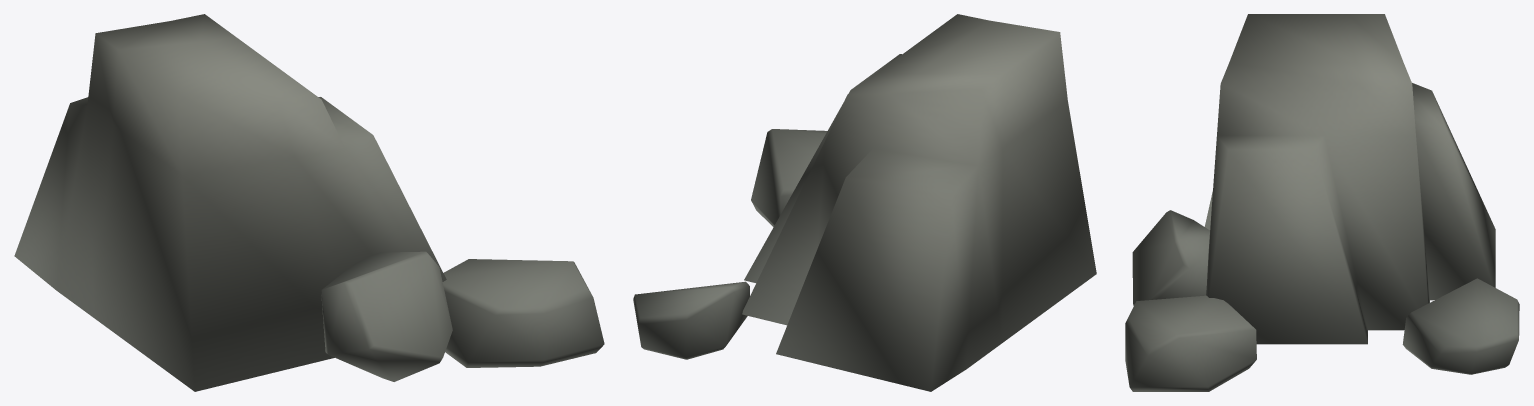
Rendered from MDL_Rock_01.fbx.
The picture shows the model from 3 angles, left to right: view 1: azimuth 30°, elevation 25°; view 2: azimuth 150°, elevation 25°; view 3: azimuth 270°, elevation 25°; orthographic projection. The views are drawn at different scales.
Visible parts, largest first — view 1: RockClump_A; view 2: RockClump_A; view 3: RockClump_A.
Boxes of the visible parts, left/top/right/bottom form: RockClump_A: left=14, top=14, right=604, bottom=391; RockClump_A: left=633, top=14, right=1096, bottom=391; RockClump_A: left=1125, top=14, right=1519, bottom=391.
Size of the model in its own units: 98.74 by 75.16 by 112.
1 material, 1 textured.
